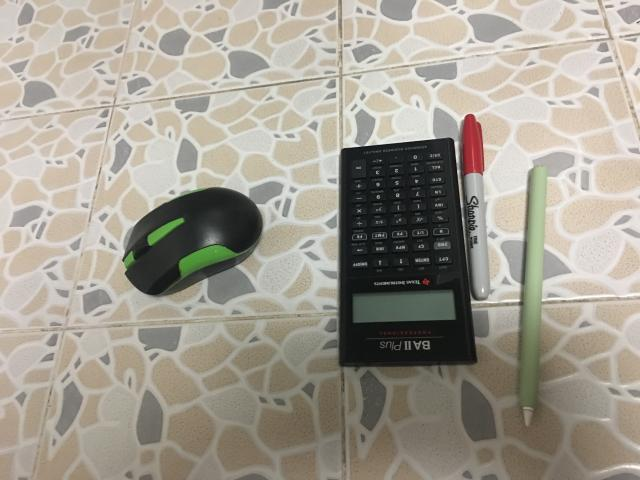Mouse: (122, 188, 262, 295)
Pen: (461, 114, 490, 300)
